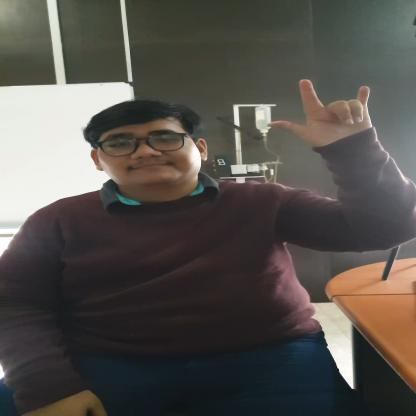ILoveYou: (266, 78, 382, 158)
